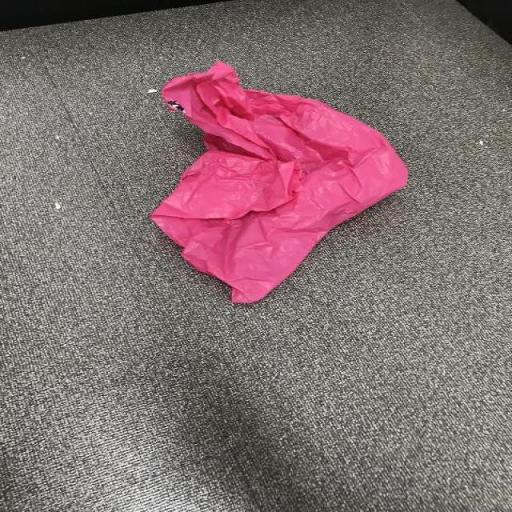plastic-bag: (150, 56, 414, 308)
